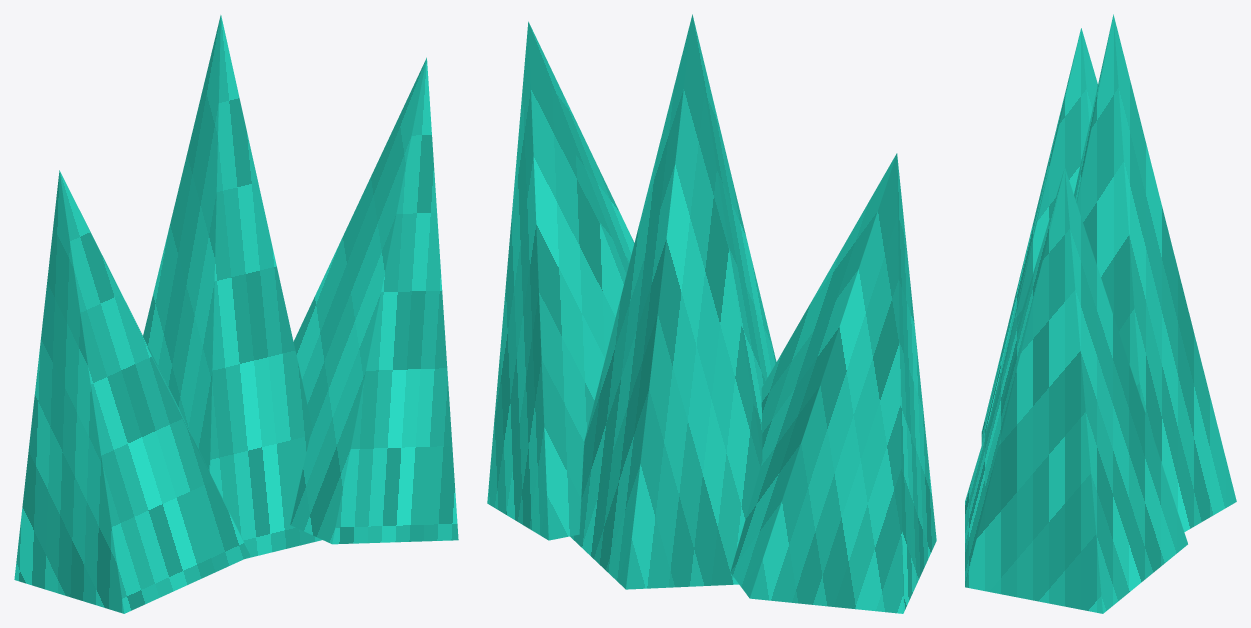
The model's file is crystal_04.glb.
3 views of the same model, side by side, from view 1: azimuth 30°, elevation 25°; view 2: azimuth 150°, elevation 25°; view 3: azimuth 270°, elevation 25° (orthographic). The views are drawn at different scales.
Visible parts, largest first — view 1: Jade, Jade.002, Jade.001; view 2: Jade.001, Jade, Jade.002; view 3: Jade.002, Jade.001, Jade.
Part boxes in pixels (x1,y1,x2,y2): Jade: (14,170,250,613); Jade.002: (290,57,458,544); Jade.001: (143,15,321,558); Jade.001: (570,14,776,589); Jade: (730,153,936,613); Jade.002: (487,21,634,540); Jade.002: (965,168,1187,613); Jade.001: (1074,14,1236,531); Jade: (981,28,1097,444).
Size of the model in its own units: 0.8101 by 0.9936 by 0.4846.
Materials: 1 (1 with a texture image).
